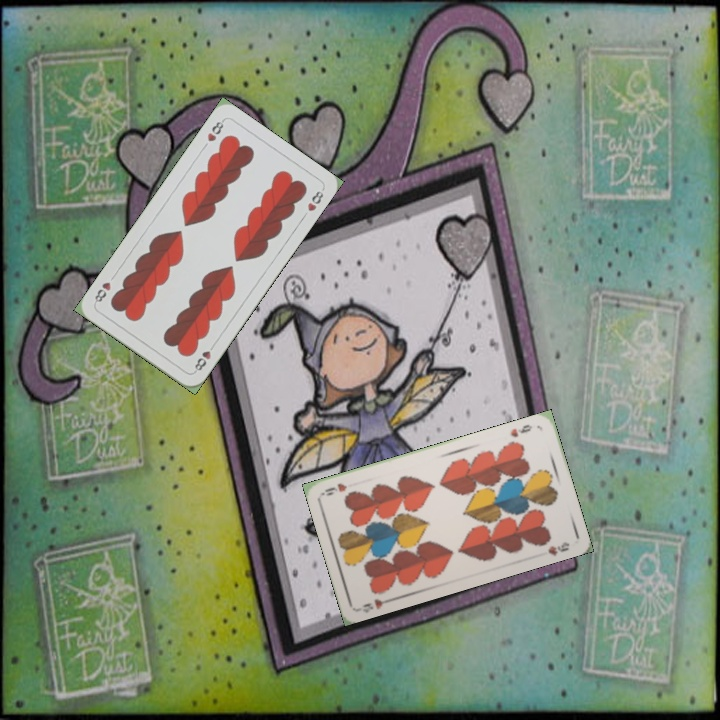H8: (190, 339, 218, 375), (203, 115, 227, 144)
H9: (358, 594, 395, 615), (507, 420, 535, 440)
